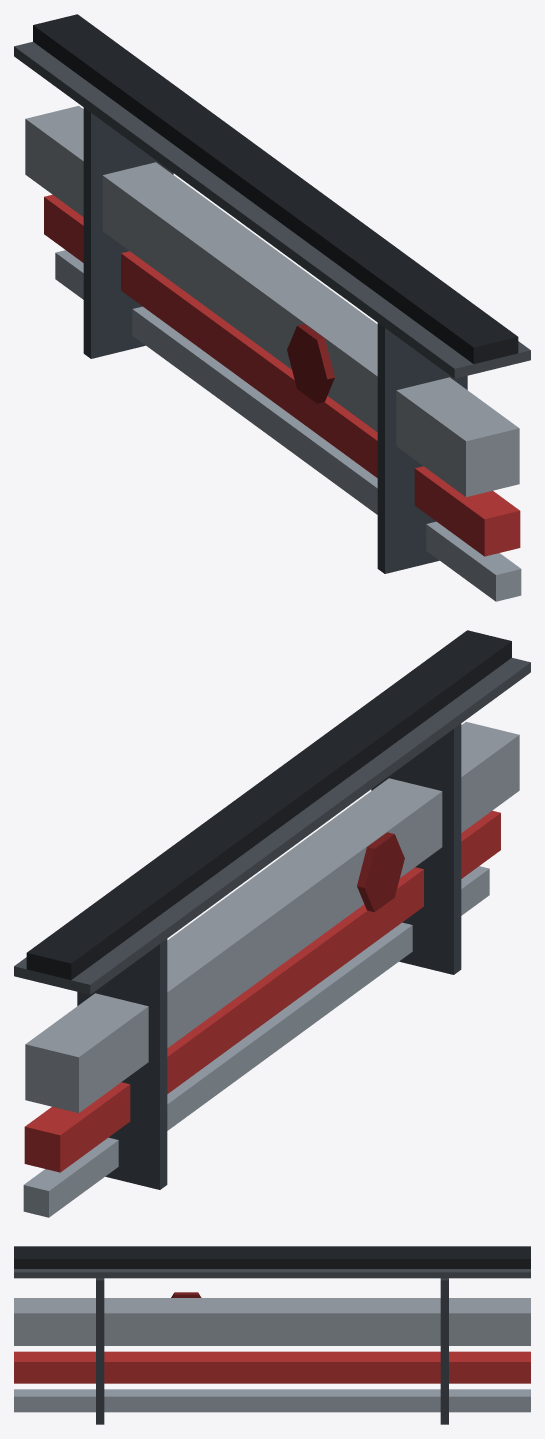
The model's file is env_carrier_pipes.fbx.
The picture shows the model from 3 angles, top to bottom: view 1: azimuth 30°, elevation 25°; view 2: azimuth 150°, elevation 25°; view 3: azimuth 270°, elevation 25°; orthographic projection. The views are drawn at different scales.
Visible parts, largest first — view 1: env_carrier_pipes; view 2: env_carrier_pipes; view 3: env_carrier_pipes.
Part boxes in pixels (<box>): env_carrier_pipes: <box>14,14,530,601</box>; env_carrier_pipes: <box>14,630,530,1217</box>; env_carrier_pipes: <box>14,1246,530,1424</box>.
Bounding box in the file's own units: 131 × 410 × 1200.
